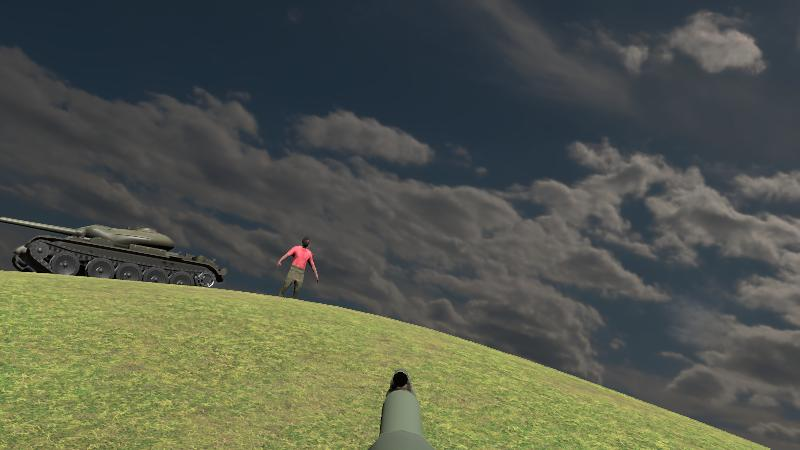Human: (277, 234, 318, 320)
Tank: (0, 209, 226, 291)
